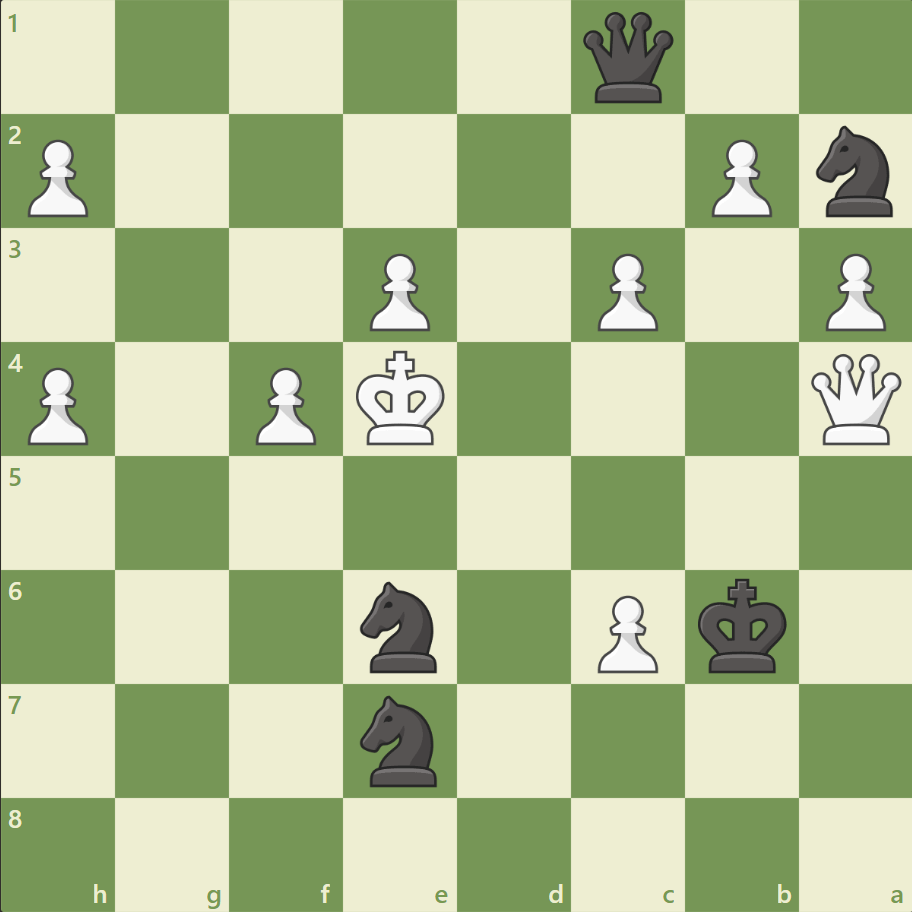K: (351, 344, 451, 452)
P: (247, 359, 322, 450), (20, 359, 95, 450), (701, 132, 776, 223), (20, 132, 95, 223), (588, 586, 662, 677), (815, 246, 889, 337), (588, 246, 662, 337), (361, 246, 435, 337)
Q: (805, 349, 904, 449)
k: (692, 571, 792, 679)
n: (351, 688, 449, 791), (351, 575, 449, 677), (806, 121, 903, 223)
q: (578, 9, 677, 108)
